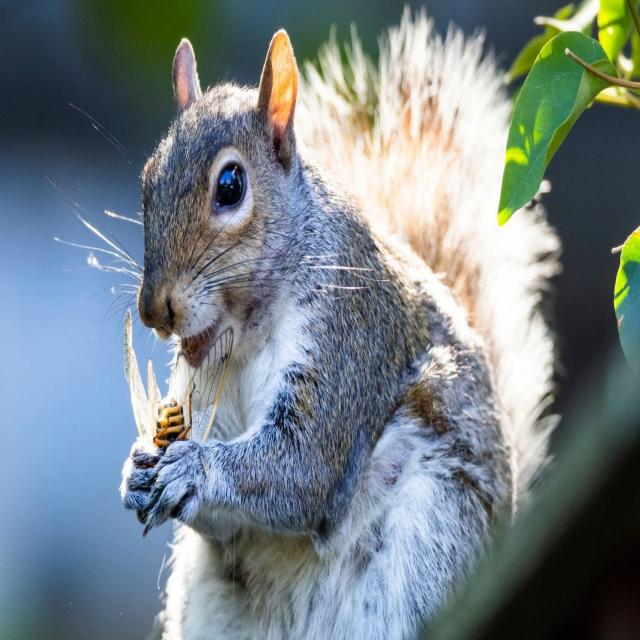squirrel: (120, 10, 561, 639)
